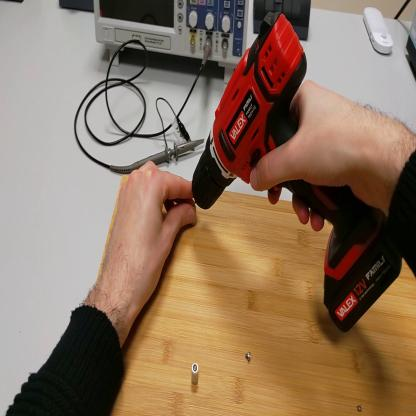electric screwdriver: (192, 12, 402, 335)
hand: (251, 81, 383, 228), (99, 160, 198, 314)
oscilloscope: (95, 3, 251, 84)
oscilloscope probe tip: (113, 136, 204, 173)
socket: (59, 2, 93, 13)
welder station: (407, 14, 416, 78)
working area: (98, 181, 416, 415)
